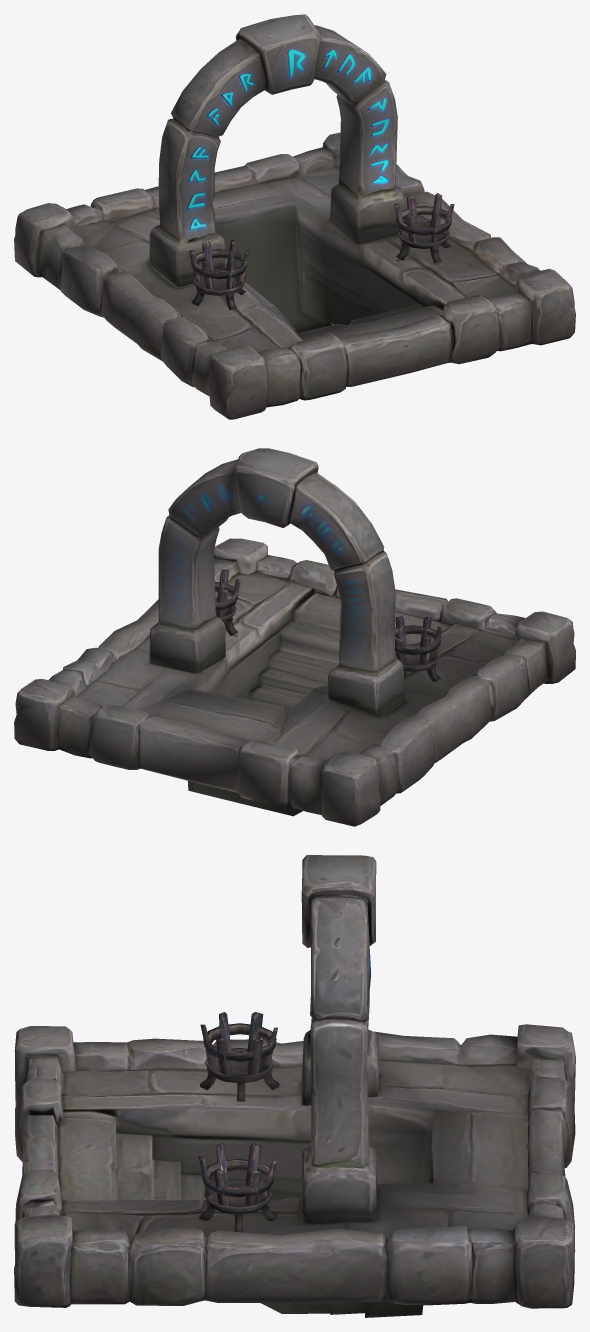
The model's file is uscita_scala.glb.
3 views of the same model, one above another, from view 1: azimuth 30°, elevation 25°; view 2: azimuth 150°, elevation 25°; view 3: azimuth 270°, elevation 25° (orthographic). The views are drawn at different scales.
Parts seen in each view (by area): view 1: uscita_scala; view 2: uscita_scala; view 3: uscita_scala.
Boxes of the visible parts, bbox=[...] form: uscita_scala: bbox=[14, 14, 575, 419]; uscita_scala: bbox=[14, 448, 575, 826]; uscita_scala: bbox=[14, 855, 575, 1317].
Size of the model in its own units: 0.9263 by 0.8169 by 0.9995.
Materials: 1 (1 with a texture image).
